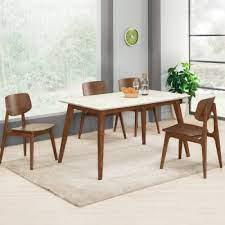desk: (57, 72, 202, 180)
